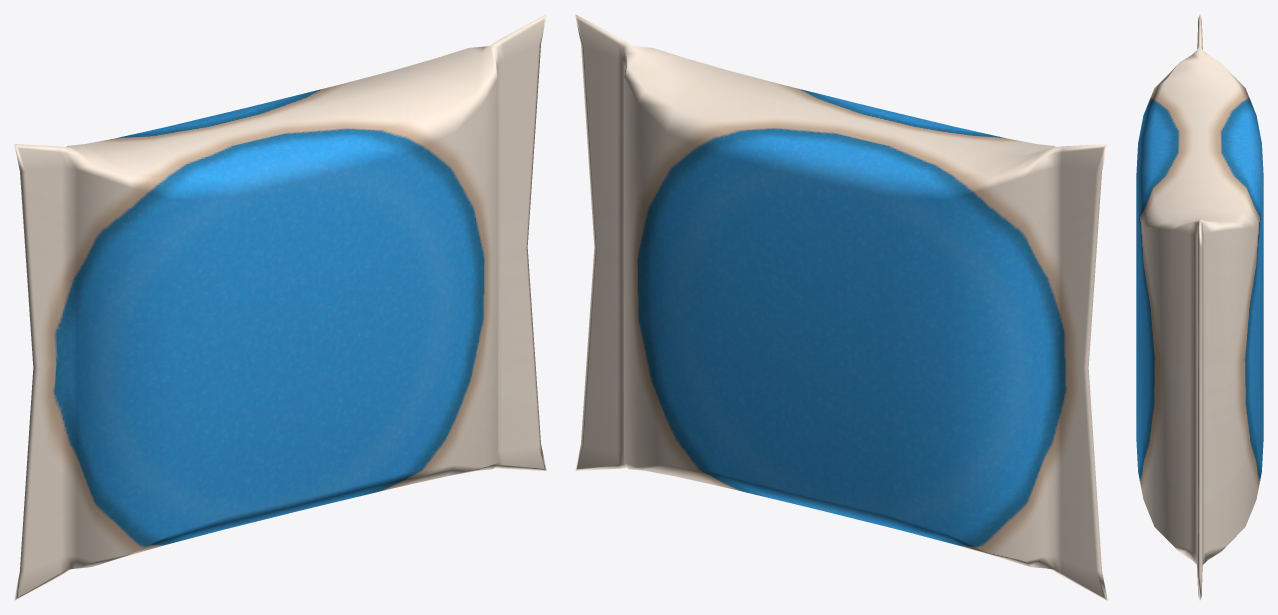
Rendered from biscuits_blue.fbx.
The picture shows the model from 3 angles, left to right: view 1: azimuth 30°, elevation 25°; view 2: azimuth 150°, elevation 25°; view 3: azimuth 270°, elevation 25°; orthographic projection. The views are drawn at different scales.
Visible parts, largest first — view 1: biscuits_blue; view 2: biscuits_blue; view 3: biscuits_blue.
Boxes of the visible parts, x1,y1,x2,y2 form: biscuits_blue: (14,14,546,600); biscuits_blue: (575,14,1107,600); biscuits_blue: (1136,14,1263,600).
Size of the model in its own units: 1.03 by 0.8441 by 0.2607.
